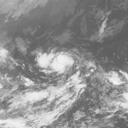cyclone: (50, 54, 74, 76)
